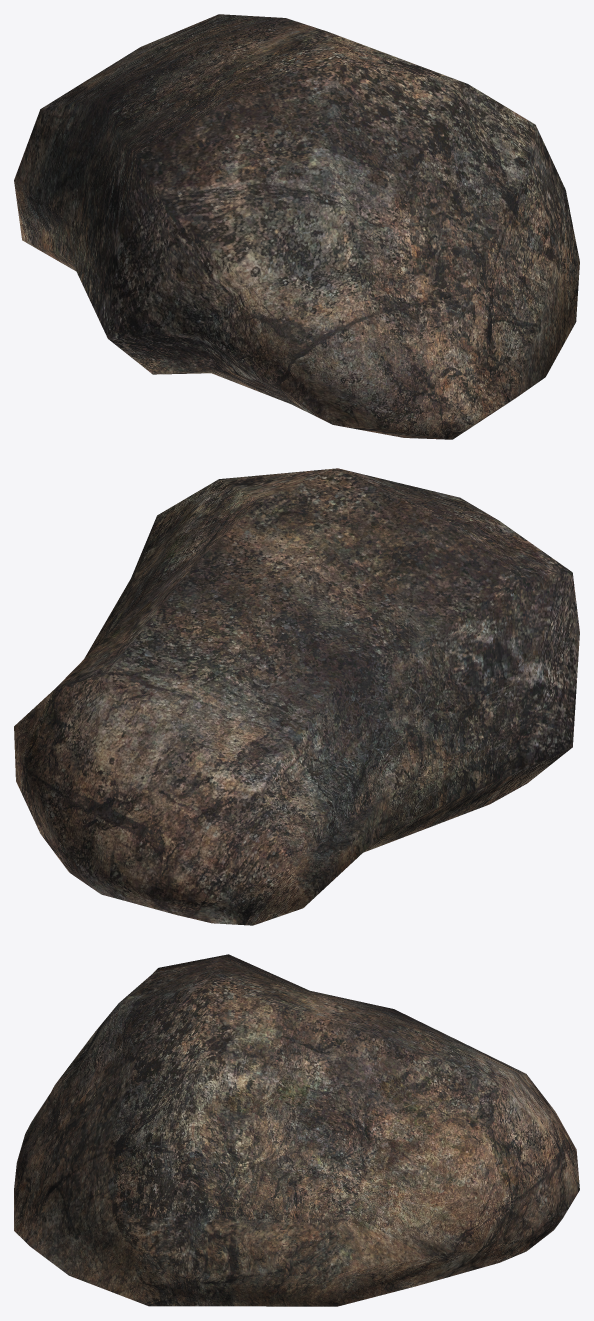
File: stone7.fbx
The picture shows the model from 3 angles, top to bottom: view 1: azimuth 30°, elevation 25°; view 2: azimuth 150°, elevation 25°; view 3: azimuth 270°, elevation 25°; orthographic projection. The views are drawn at different scales.
Visible parts, largest first — view 1: stone_7.object; view 2: stone_7.object; view 3: stone_7.object.
Part boxes in pixels (x1=…): stone_7.object: x1=14, y1=14, x2=579, y2=439; stone_7.object: x1=14, y1=468, x2=579, y2=925; stone_7.object: x1=14, y1=954, x2=579, y2=1306.
Size of the model in its own units: 339 by 222 by 438.
